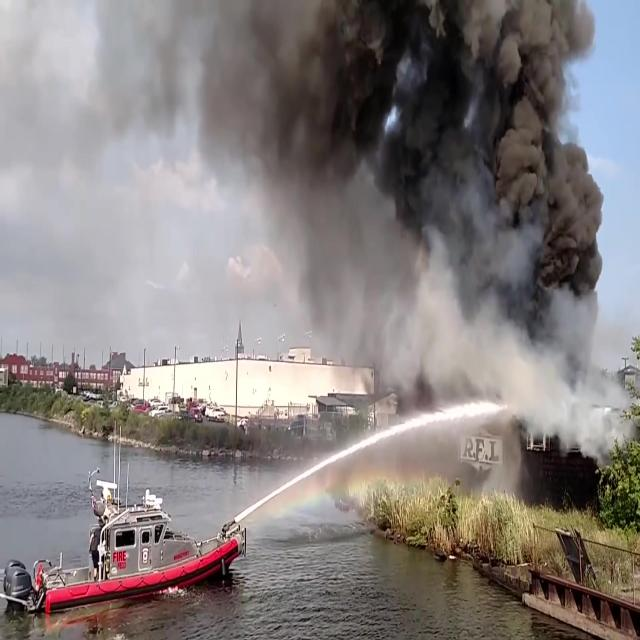smoke: (290, 26, 576, 384)
